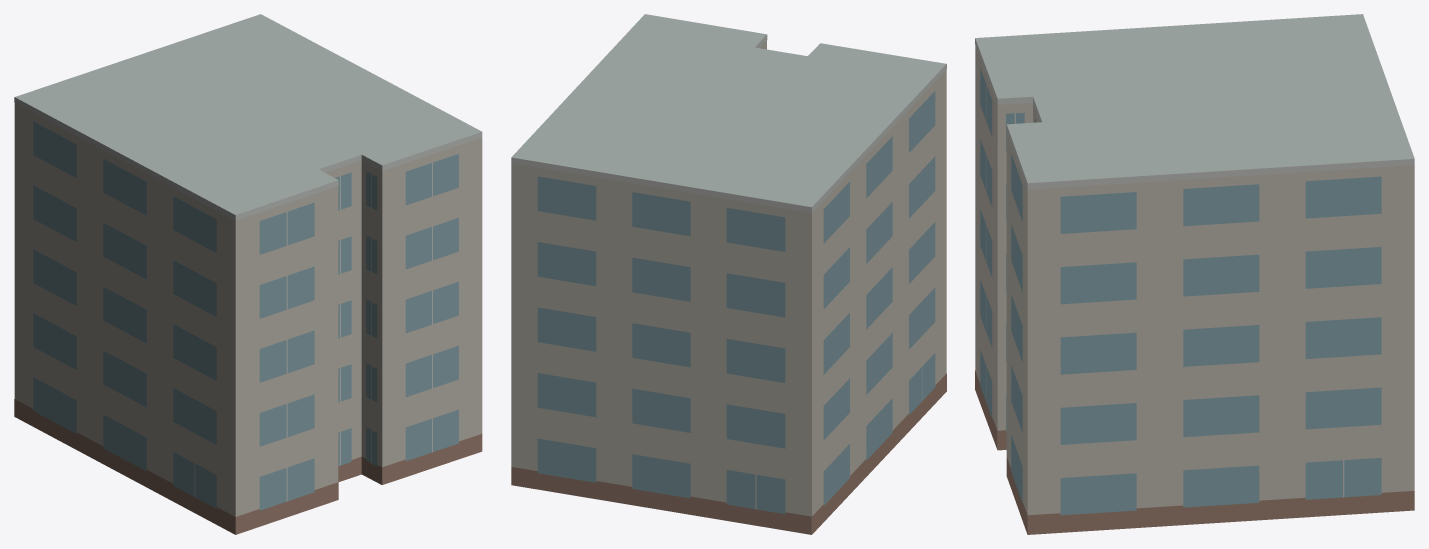
File: survey-upis-32840917.glb
3 renders of one model, left to right at view 1: azimuth 30°, elevation 25°; view 2: azimuth 150°, elevation 25°; view 3: azimuth 270°, elevation 25°, orthographic. The views are drawn at different scales.
Visible parts, largest first — view 1: survey-upis-32840917.tmp; view 2: survey-upis-32840917.tmp; view 3: survey-upis-32840917.tmp.
Part boxes in pixels (<box>): survey-upis-32840917.tmp: <box>14,14,482,534</box>; survey-upis-32840917.tmp: <box>511,14,946,534</box>; survey-upis-32840917.tmp: <box>975,14,1414,534</box>.
Bounding box in the file's own units: 14.2 × 13.75 × 15.59.
